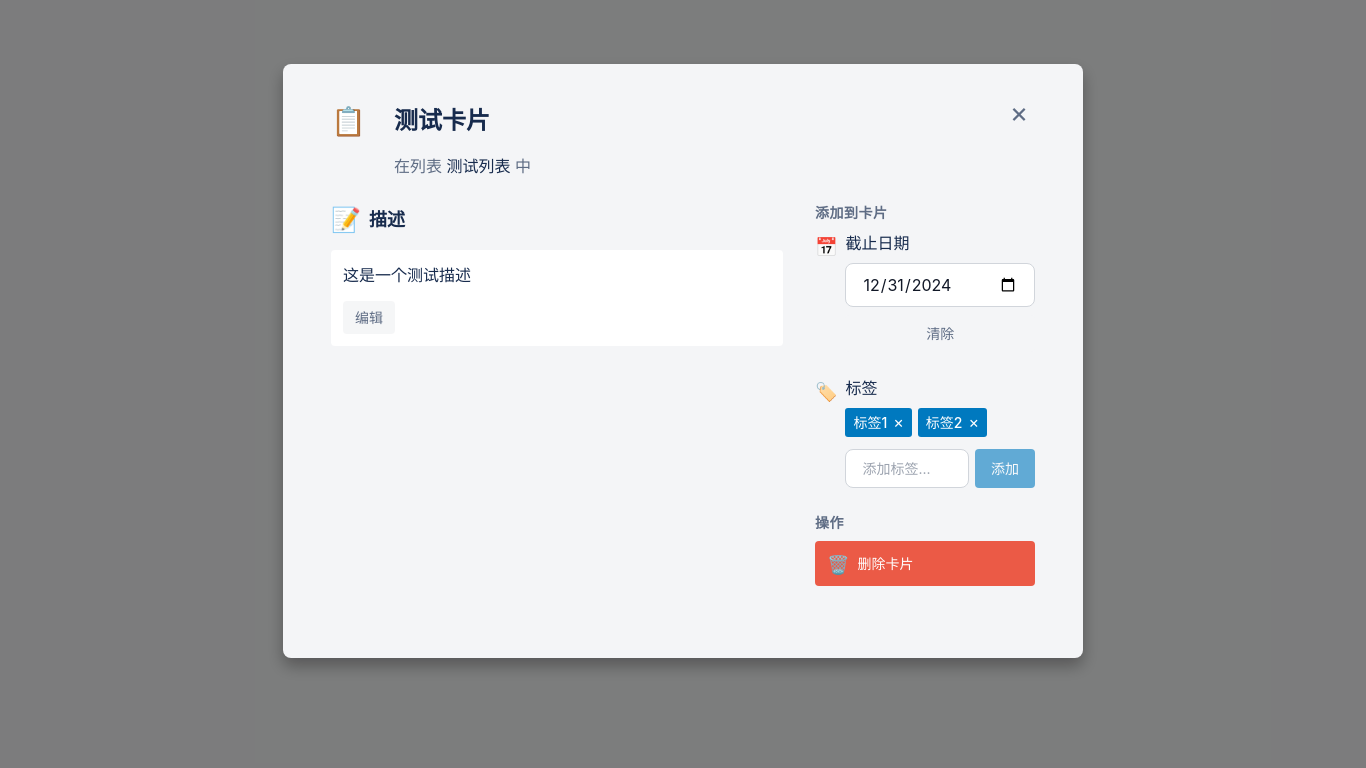
Scenario: CardDetail.vue › 编辑卡片描述 › 点击"编辑"按钮进入编辑模式
Step 1. Click the button with class "btn-edit" → (369, 317), box [343, 301, 395, 334]
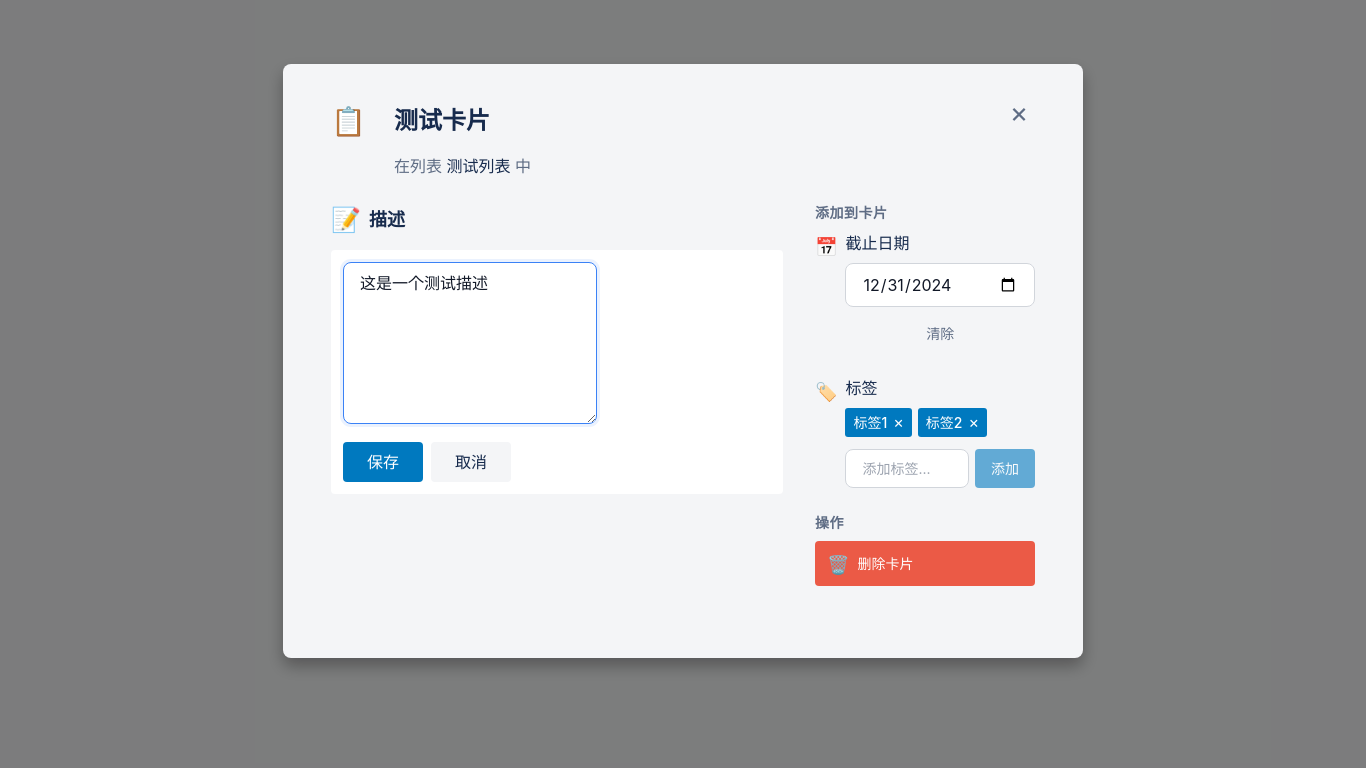
Now the text box with class "description-input" holds "这是一个测试描述", box [343, 262, 597, 424]
